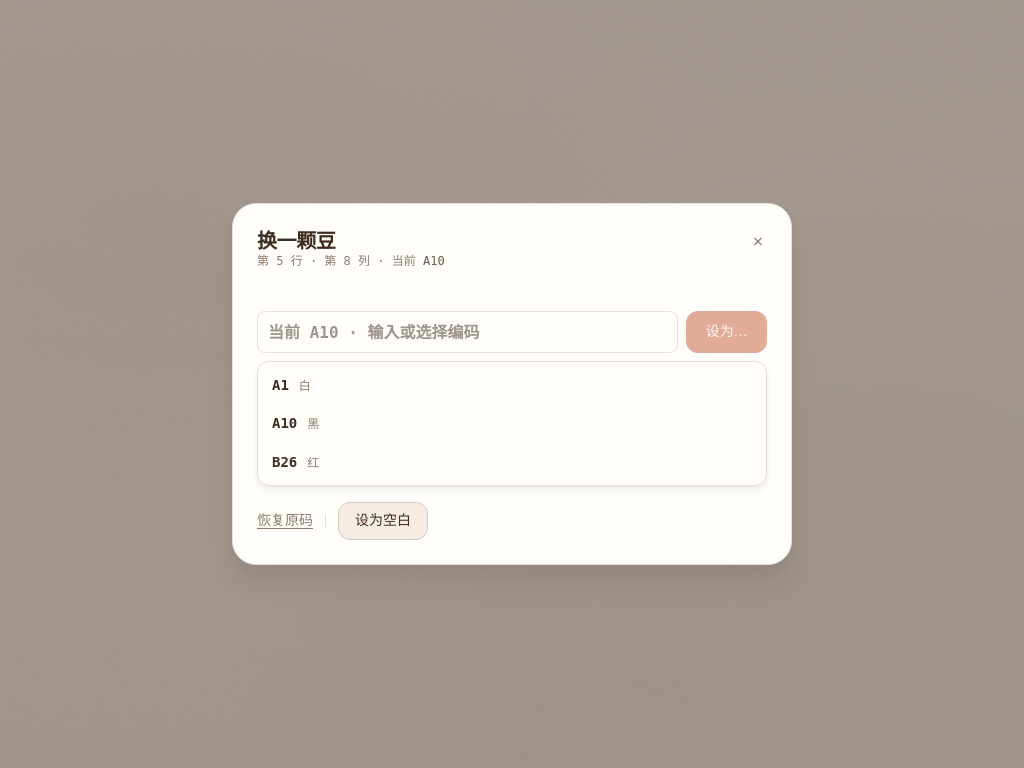
it: CorrectionEditorModal 交互 › 失焦后下拉保持打开（只在选中编码后收回）
The width and height of the screenshot is (1024, 768).
Focus the field named "修正编码" at [467, 332], box [257, 311, 678, 353]
Expected: the element with test id "code-dropdown" is shown, [257, 361, 767, 486]
Leave the field named "修正编码", box [257, 311, 678, 353]
Expected: the element with test id "code-dropdown" is shown, [257, 361, 767, 486]
#  选中编码后收回
Click the text "A1" at [280, 385], box [272, 374, 289, 396]
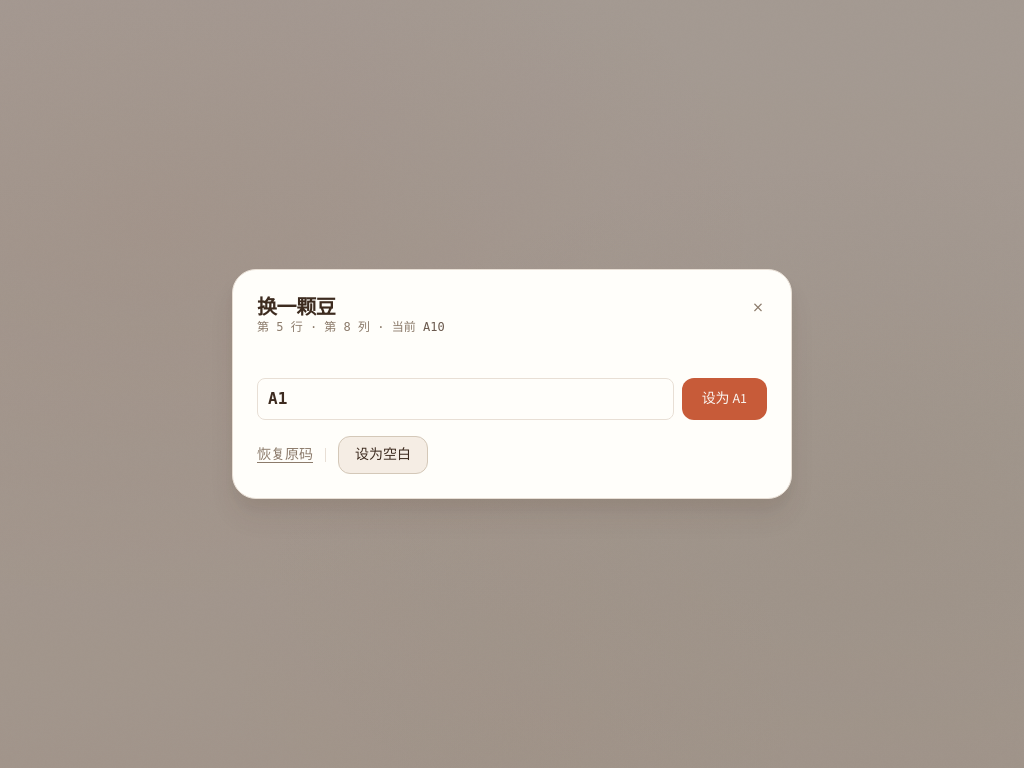
Expected: the element with test id "code-dropdown" is gone
